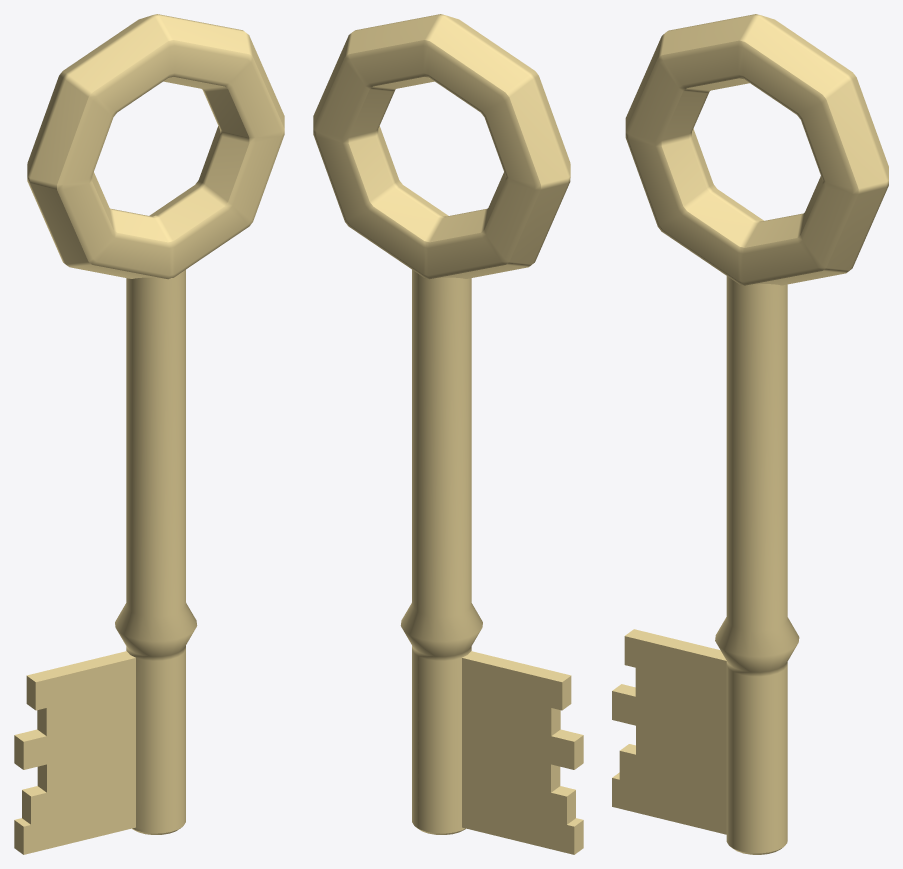
The model's file is key_model.fbx.
3 renders of one model, left to right at view 1: azimuth 30°, elevation 25°; view 2: azimuth 150°, elevation 25°; view 3: azimuth 330°, elevation 25°, orthographic. The views are drawn at different scales.
Visible parts, largest first — view 1: pTorus2; view 2: pTorus2; view 3: pTorus2.
Boxes of the visible parts, bbox=[...] form: pTorus2: bbox=[14, 14, 284, 854]; pTorus2: bbox=[313, 14, 583, 854]; pTorus2: bbox=[612, 14, 888, 854].
Bounding box in the file's own units: 2.09 × 6.1 × 0.5661.
